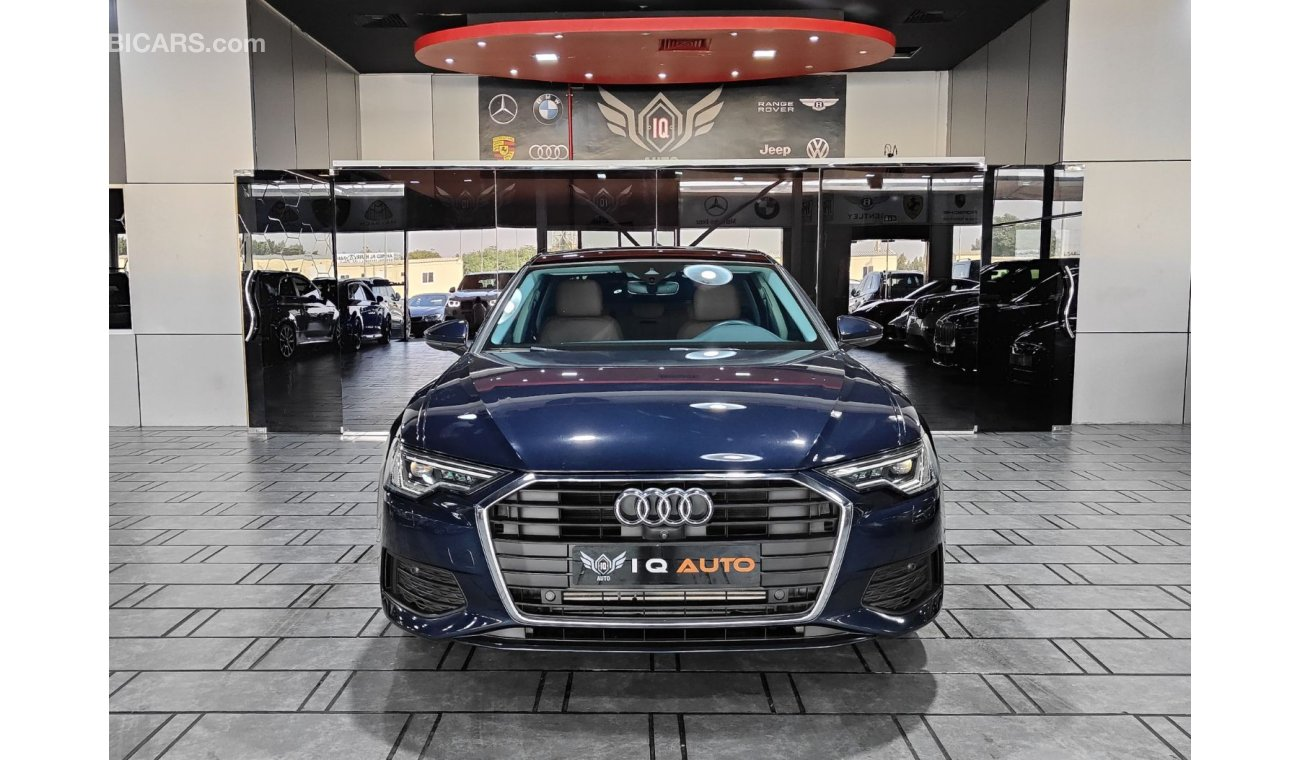car: (376, 239, 949, 664)
